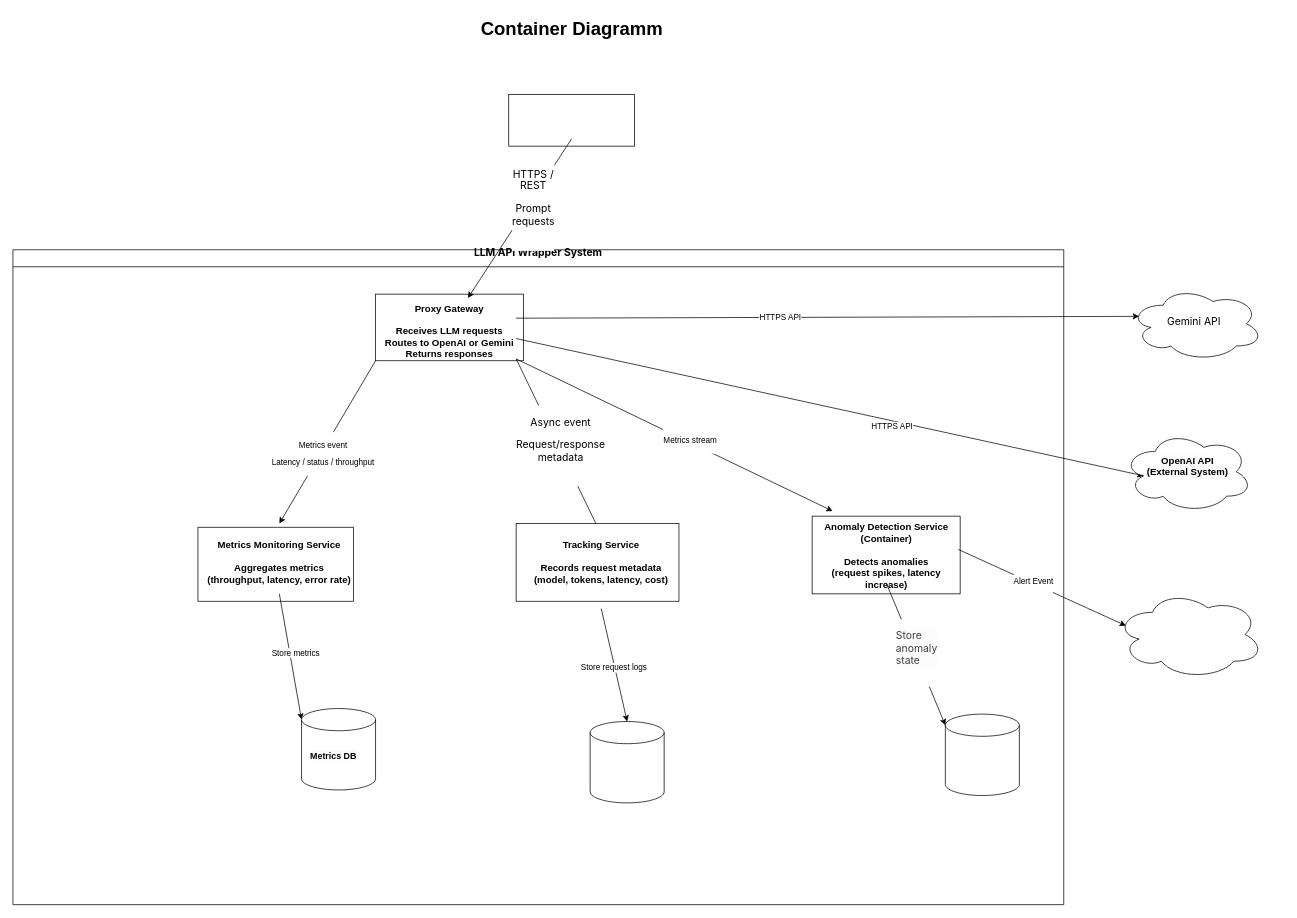
The diagram is 1297 pixels wide and 918 high, and some of its shapes have lost their labels. Here are the shapes that lost their labels. From the top down, the centre of each, then its label:
(x=571, y=120): Application Service
(x=1189, y=634): Alerting System Slack / PagerDuty / Email
(x=626, y=762): Request Log DB
(x=982, y=754): Anomaly State Store
